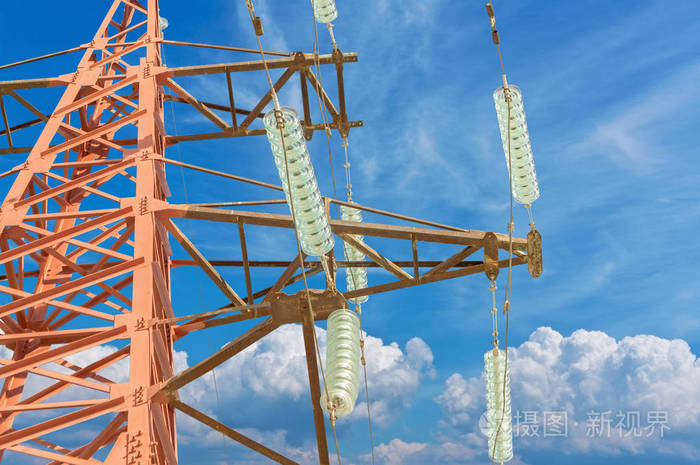insulator: (262, 106, 333, 255), (493, 82, 539, 203), (324, 309, 363, 414), (483, 350, 518, 463), (338, 203, 374, 303), (311, 1, 337, 23)
